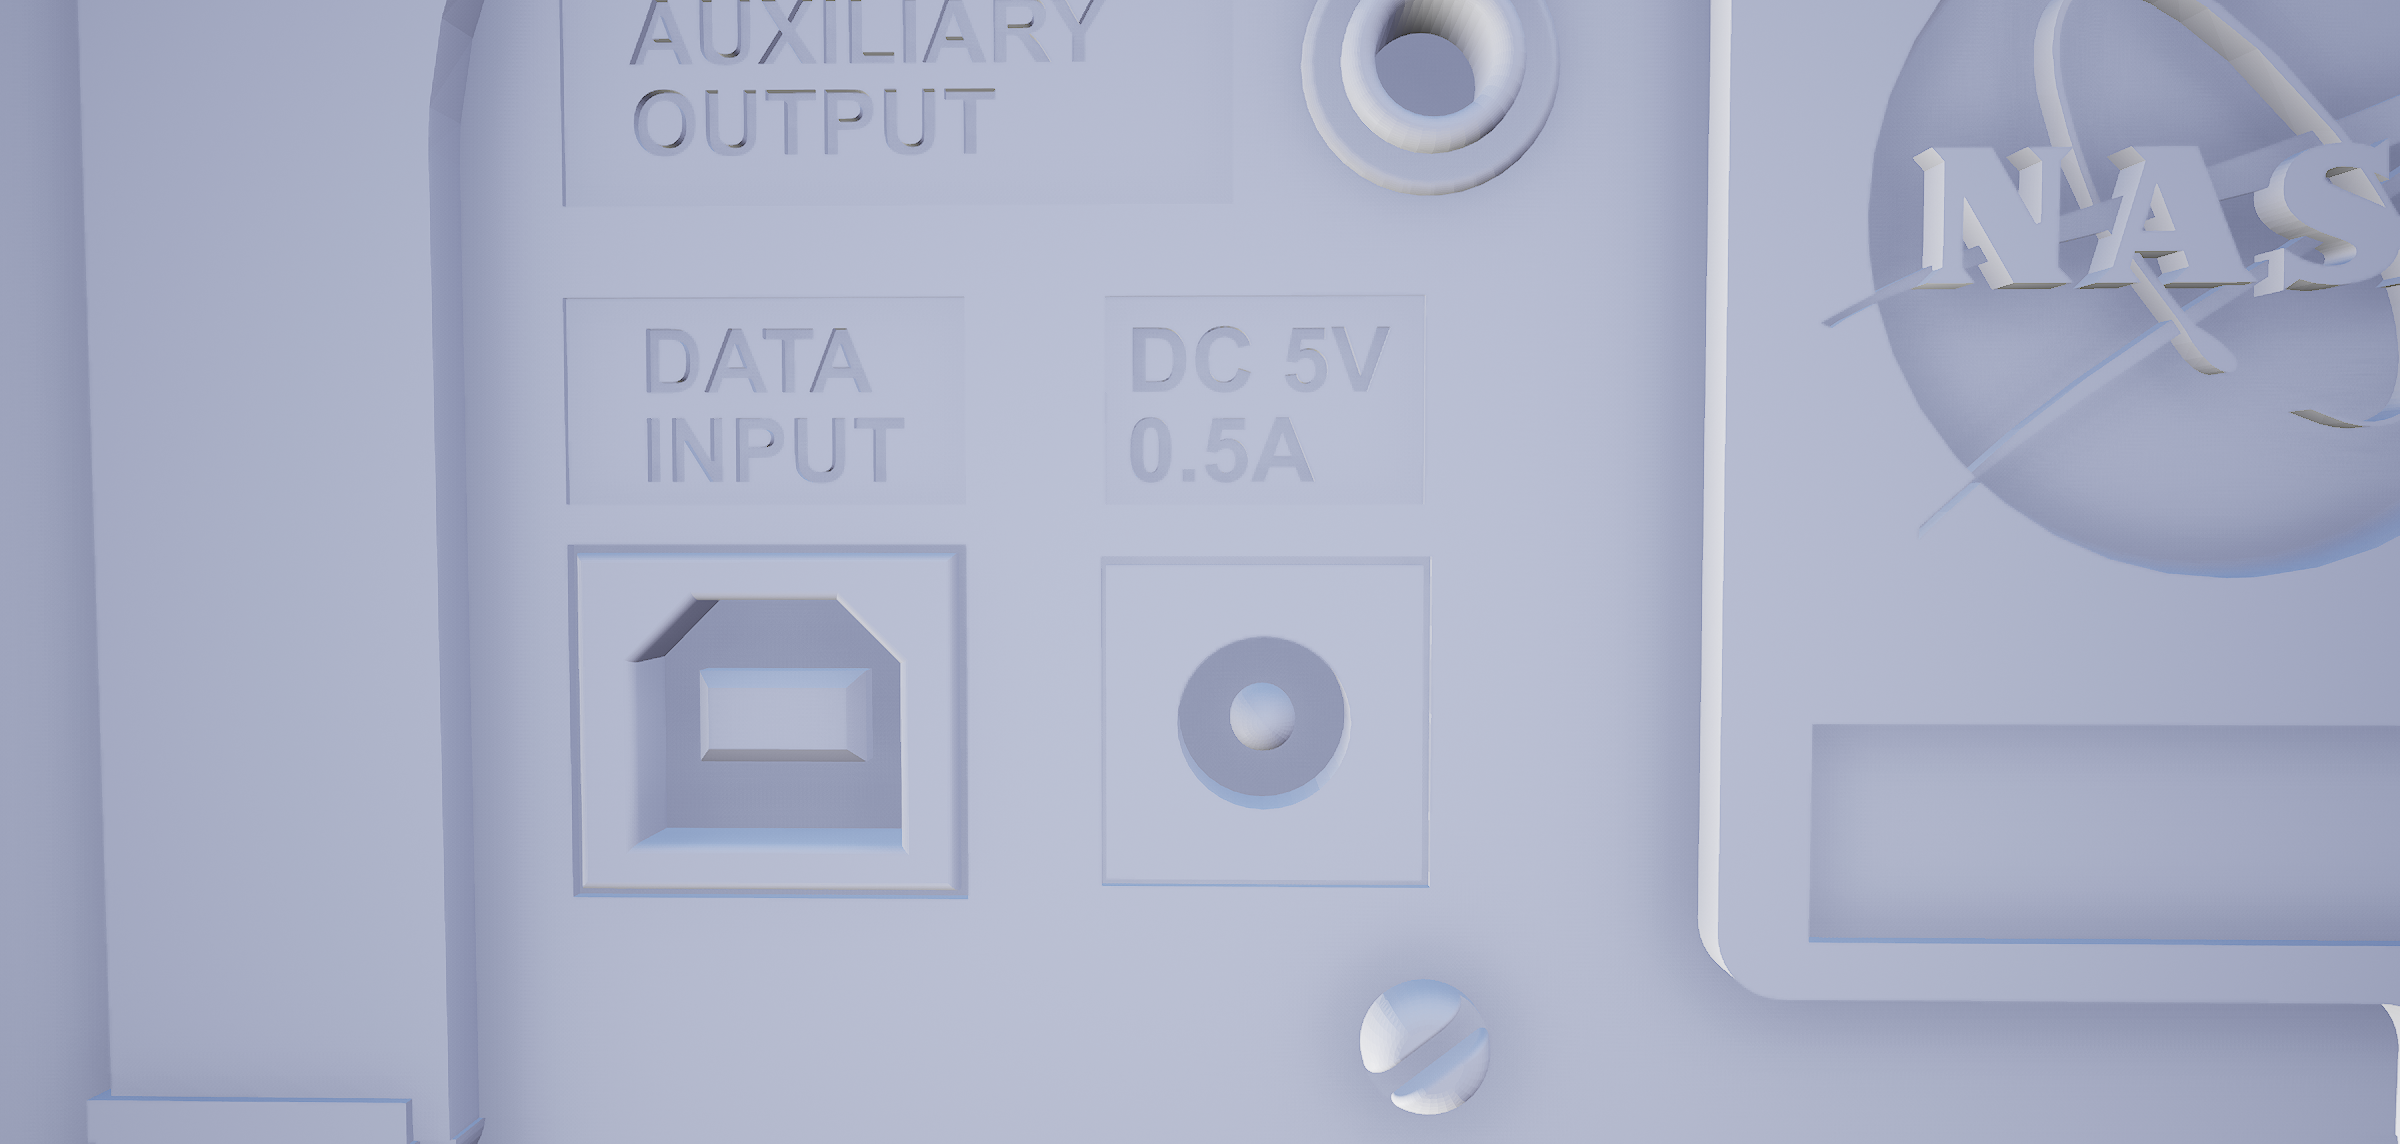aux: (1277, 2, 1609, 198)
dc: (1163, 629, 1365, 809)
usb: (615, 582, 915, 868)
